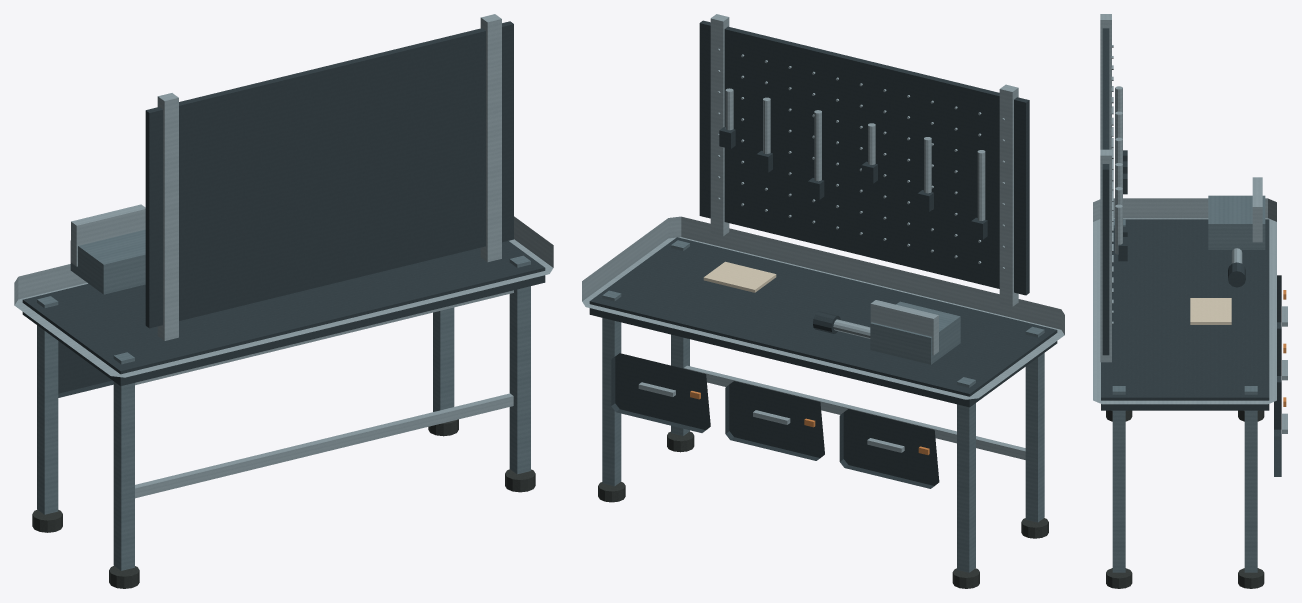
File: tool_bench.glb
The picture shows the model from 3 angles, left to right: view 1: azimuth 30°, elevation 25°; view 2: azimuth 150°, elevation 25°; view 3: azimuth 270°, elevation 25°; orthographic projection. The views are drawn at different scales.
Parts seen in each view (by area): view 1: Pegboard__graphite, static__graphite, static__trim, Back_Frame__alloy, static__alloy, work_surface__alloy, Vice__trim, feet__rubber, Vice__alloy, Drawer_Fronts__graphite; view 2: Pegboard__graphite, static__graphite, Drawer_Fronts__graphite, work_surface__alloy, static__trim, Back_Frame__alloy, Vice__trim, Hanging_Tools__alloy, static__alloy, Vice__alloy, feet__rubber, Hanging_Tools__graphite (+3 smaller); view 3: static__graphite, work_surface__alloy, static__trim, Vice__trim, Pegboard__graphite, Back_Frame__alloy, Hanging_Tools__alloy, feet__rubber, Drawer_Fronts__graphite, Working_Mat__cream, Vice__alloy, Hanging_Tools__graphite (+3 smaller).
Boxes of the visible parts, left/top/right/bottom form: Pegboard__graphite: left=145, top=21, right=513, bottom=328; static__graphite: left=22, top=241, right=545, bottom=386; static__trim: left=37, top=255, right=530, bottom=570; Back_Frame__alloy: left=157, top=14, right=501, bottom=340; static__alloy: left=135, top=290, right=513, bottom=498; work_surface__alloy: left=14, top=216, right=553, bottom=377; Vice__trim: left=70, top=229, right=145, bottom=294; feet__rubber: left=32, top=419, right=535, bottom=588; Vice__alloy: left=71, top=204, right=145, bottom=266; Drawer_Fronts__graphite: left=58, top=341, right=113, bottom=397; Pegboard__graphite: left=699, top=20, right=1029, bottom=295; static__graphite: left=589, top=237, right=1057, bottom=407; Drawer_Fronts__graphite: left=611, top=353, right=939, bottom=488; work_surface__alloy: left=582, top=216, right=1064, bottom=399; static__trim: left=602, top=240, right=1044, bottom=572; Back_Frame__alloy: left=710, top=14, right=1018, bottom=306; Vice__trim: left=870, top=301, right=960, bottom=364; Hanging_Tools__alloy: left=725, top=88, right=985, bottom=220; static__alloy: left=683, top=365, right=1025, bottom=459; Vice__alloy: left=833, top=300, right=938, bottom=355; feet__rubber: left=598, top=431, right=1048, bottom=588; Hanging_Tools__graphite: left=719, top=127, right=987, bottom=239; static__graphite: left=1101, top=219, right=1269, bottom=410; work_surface__alloy: left=1093, top=198, right=1276, bottom=404; static__trim: left=1112, top=219, right=1257, bottom=572; Vice__trim: left=1208, top=195, right=1265, bottom=249; Pegboard__graphite: left=1102, top=28, right=1109, bottom=355; Back_Frame__alloy: left=1100, top=14, right=1111, bottom=362; Hanging_Tools__alloy: left=1115, top=86, right=1122, bottom=254; feet__rubber: left=1106, top=410, right=1264, bottom=588; Drawer_Fronts__graphite: left=1274, top=275, right=1281, bottom=476; Working_Mat__cream: left=1190, top=298, right=1231, bottom=324; Vice__alloy: left=1231, top=177, right=1262, bottom=263; Hanging_Tools__graphite: left=1118, top=150, right=1127, bottom=261.
Bounding box in the file's own units: 1.7 × 1.77 × 0.7515.
Materials: 6 (6 with a texture image).
